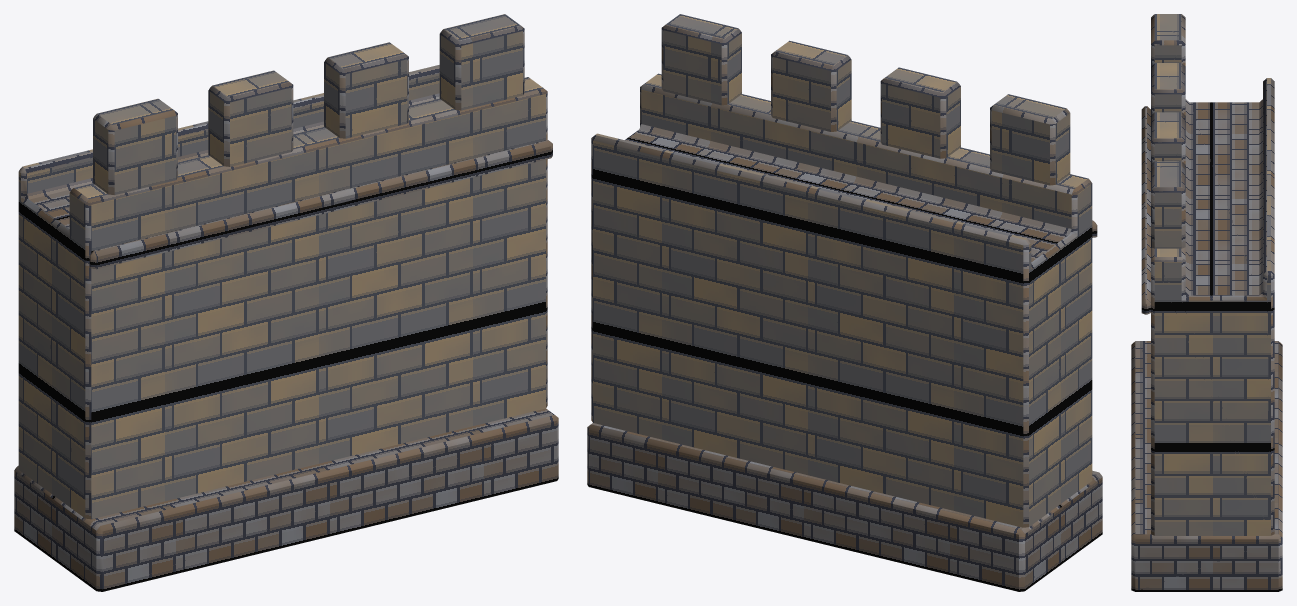
The model's file is town_wall_0.glb.
The picture shows the model from 3 angles, left to right: view 1: azimuth 30°, elevation 25°; view 2: azimuth 150°, elevation 25°; view 3: azimuth 270°, elevation 25°; orthographic projection. The views are drawn at different scales.
Visible parts, largest first — view 1: town_wall_1; view 2: town_wall_1; view 3: town_wall_1.
Part boxes in pixels (x1,y1,x2,y2): town_wall_1: (14, 14, 558, 591); town_wall_1: (587, 14, 1102, 591); town_wall_1: (1131, 14, 1282, 591).
Size of the model in its own units: 6 by 5.6 by 1.95.
2 materials, 2 textured.
